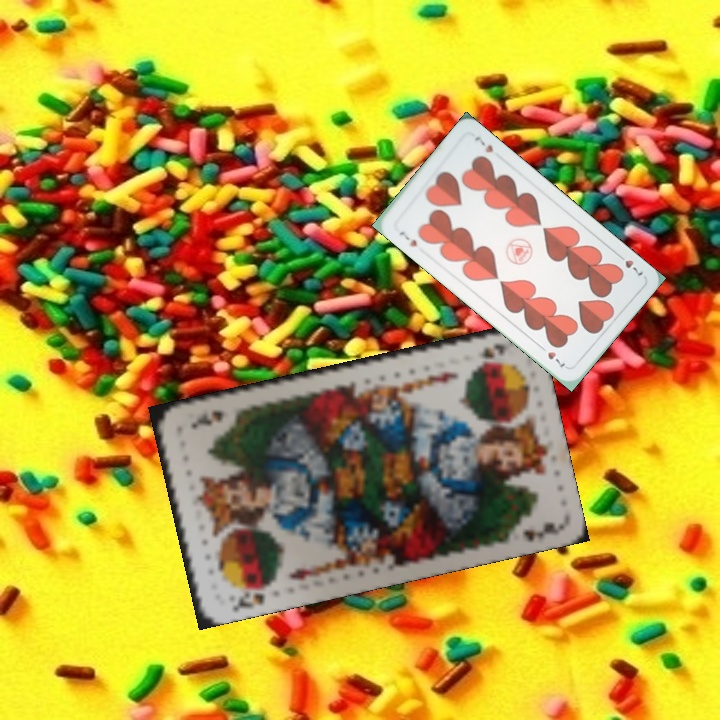H7: (612, 249, 646, 278), (395, 226, 420, 249)
SK: (228, 577, 275, 613), (475, 340, 509, 363)
